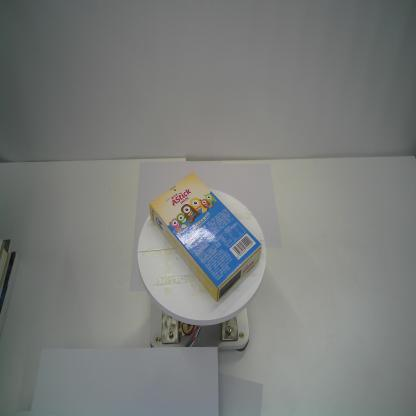Dessert: (149, 171, 262, 302)
